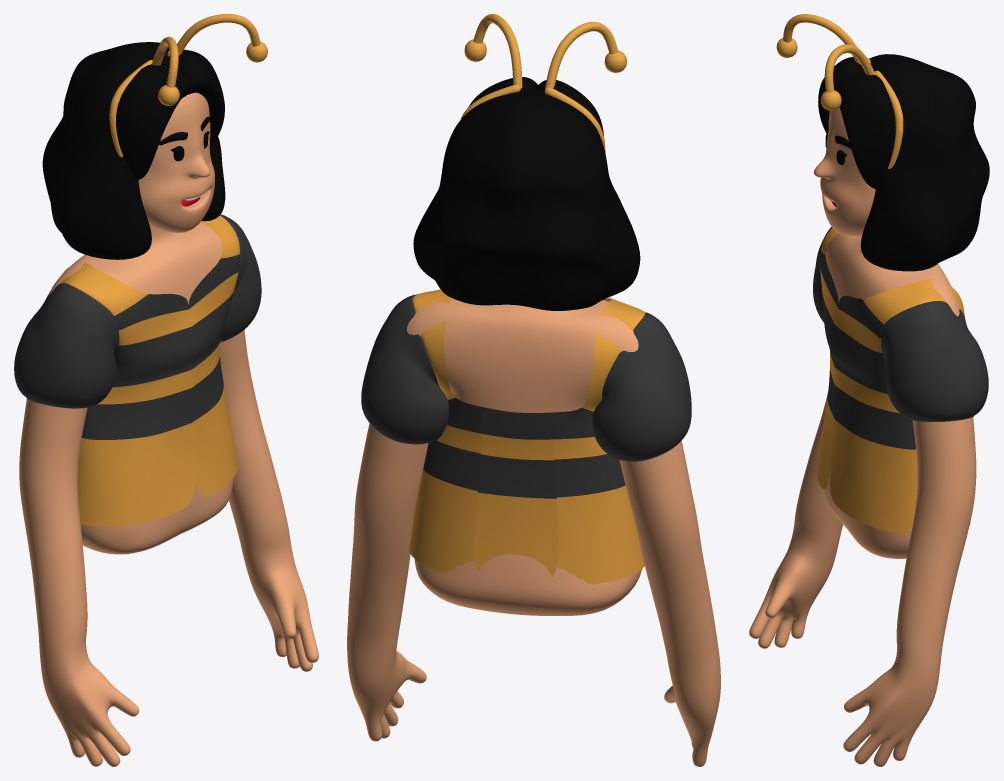
File: Bee.glb
3 renders of one model, left to right at view 1: azimuth 30°, elevation 25°; view 2: azimuth 150°, elevation 25°; view 3: azimuth 270°, elevation 25°, orthographic. The views are drawn at different scales.
Visible parts, largest first — view 1: Vert.033, Vert.070, Vert.073, Cube.055, Cube.105, Vert.079, Vert.080, Vert.036; view 2: Vert.070, Vert.033, Vert.073, Vert.079, Cube.105, Vert.036, Vert.080; view 3: Vert.070, Vert.033, Vert.073, Cube.105, Cube.055, Vert.079, Vert.036, Vert.080.
Boxes of the visible parts, x1,y1,x2,y2 form: Vert.033: (14,214,261,526); Vert.070: (19,222,318,766); Vert.073: (42,42,225,259); Cube.055: (138,92,214,232); Cube.105: (116,50,224,179); Vert.079: (152,14,260,87); Vert.080: (158,41,267,105); Vert.036: (109,49,185,156); Vert.070: (347,297,720,766); Vert.033: (361,289,691,584); Vert.073: (413,89,640,310); Vert.079: (473,14,618,89); Cube.105: (469,77,603,135); Vert.036: (460,84,605,153); Vert.080: (464,39,626,72); Vert.070: (749,233,976,766); Vert.033: (813,227,988,533); Vert.073: (861,54,989,271); Cube.105: (818,57,895,189); Cube.055: (813,107,875,235); Vert.079: (783,14,874,92); Vert.036: (867,57,903,168); Vert.080: (776,38,841,110).
Size of the model in its own units: 6.12 by 13.53 by 4.37.
